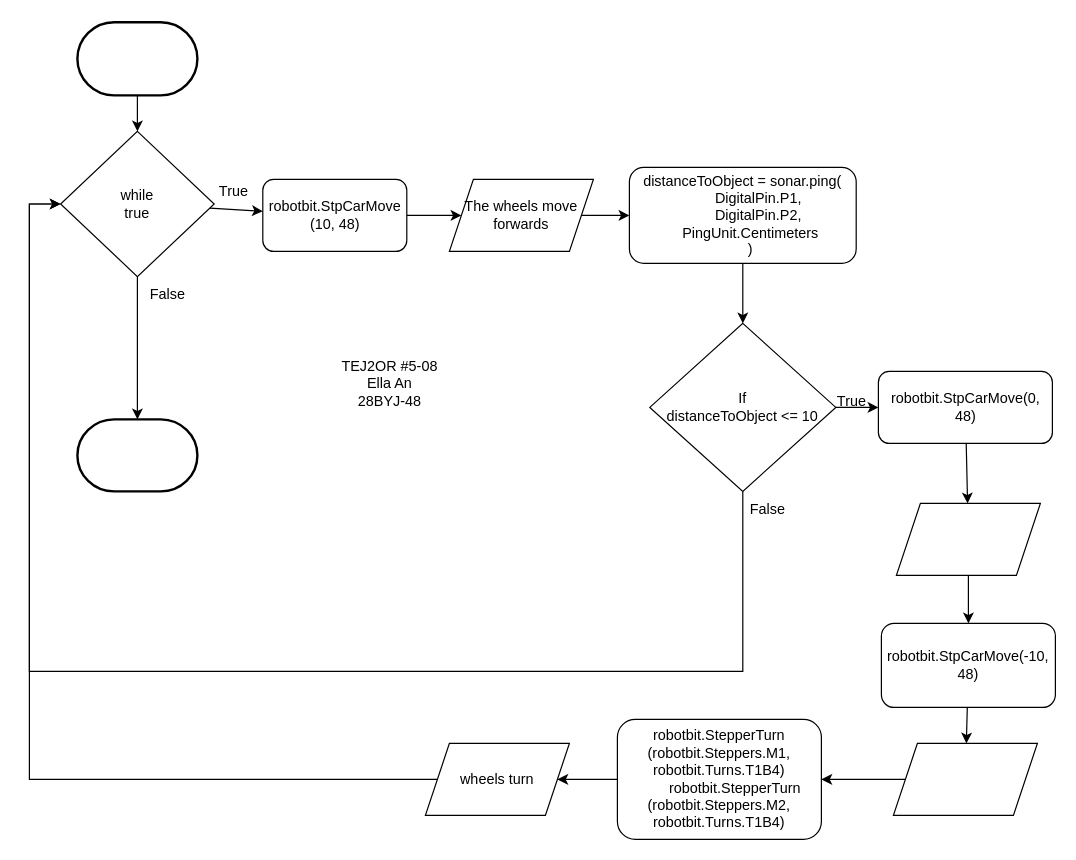
Image size: 1076x860. Some labels were removed from this diagram. The shapes that lost their labels are listed below. From the top down, each one's centre as x and y in pixels, then its label:
At point 137,58: "Start".
At point 137,455: "Stop".
At point 967,538: "wheels stops".
At point 964,778: "backs away".
